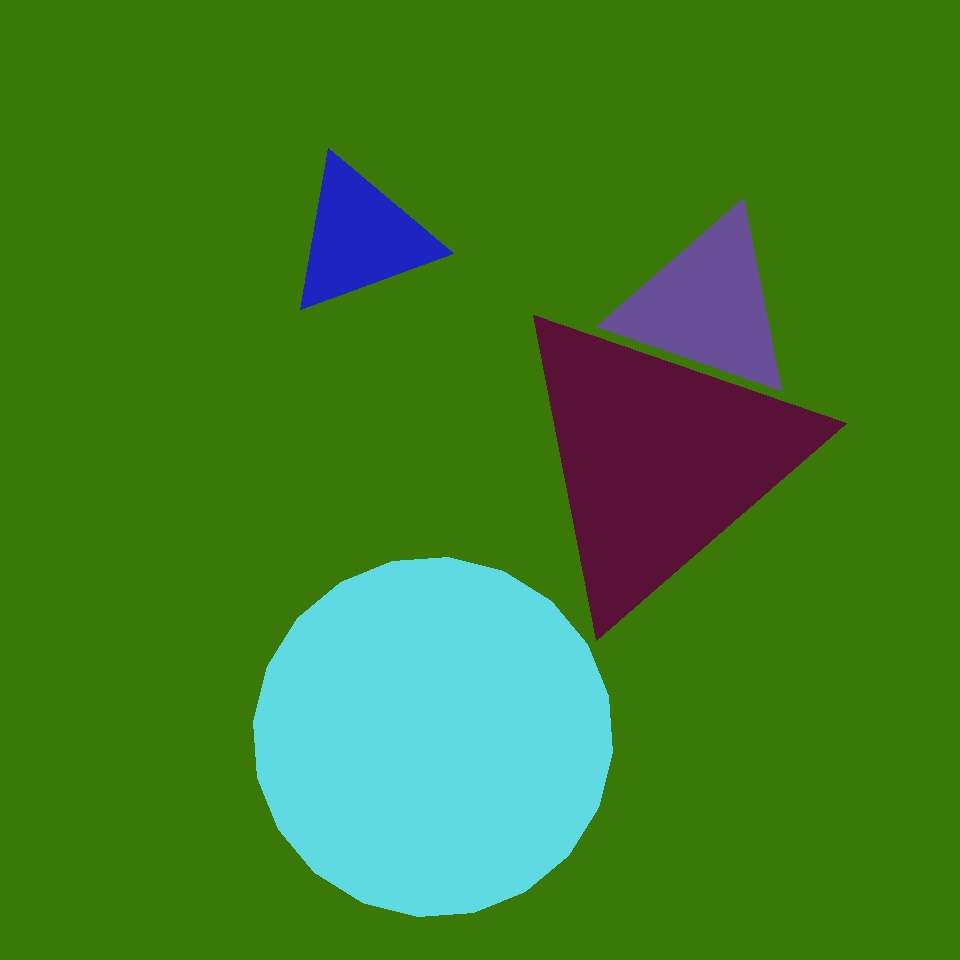circle: (502, 298, 815, 622), (723, 588, 924, 809), (614, 209, 800, 401), (284, 156, 437, 318)
square: (231, 421, 460, 650)
triangle: (253, 558, 612, 916)
